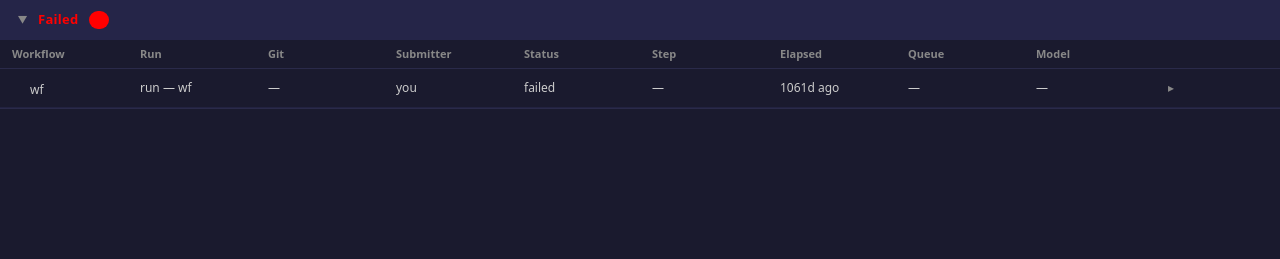
Test: QueueSection — live-run pane in the row detail (P4-T10) › expanding a row mounts the live-run pane fed with THAT row's instance id
Step 1. Click the button named "expand" → (1171, 88), box top-left (1164, 79), bottom-right (1178, 97)
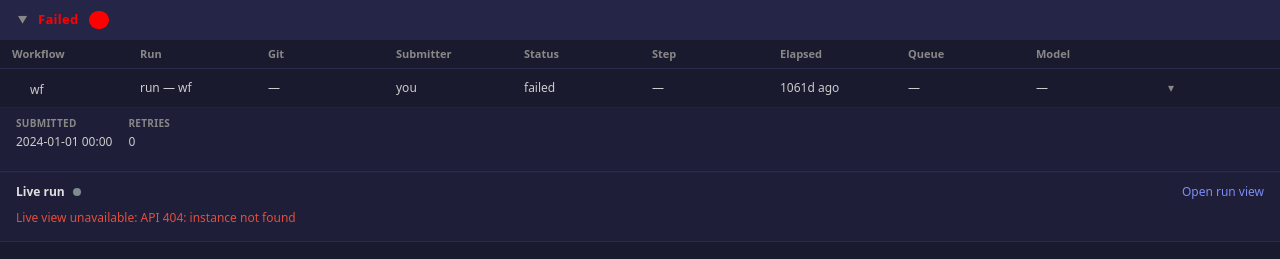
Result: the element with test id "run-live-pane" is shown at top-left (0, 172), bottom-right (1279, 241)
Result: the text with test id "run-live-error" shows "API 404: instance not found" at top-left (140, 209), bottom-right (296, 226)
